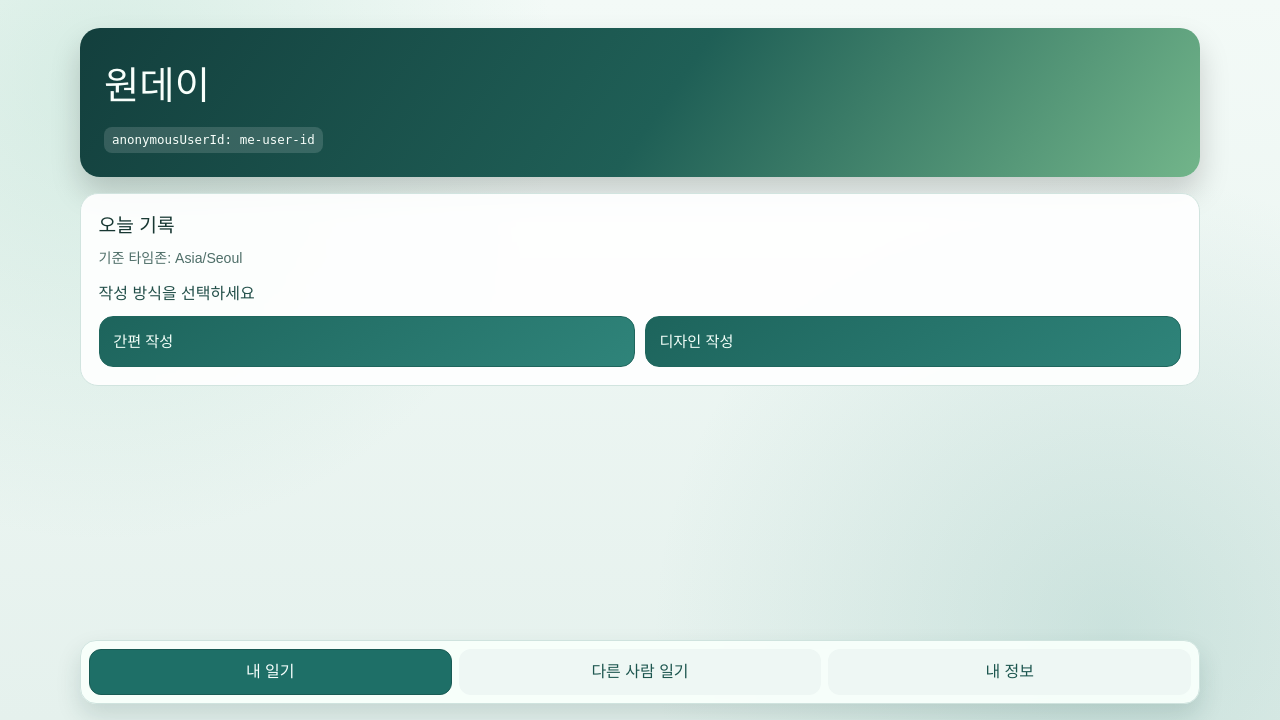
App integration › blocks deleting an entry authored by another user
The width and height of the screenshot is (1280, 720).
Click the button "내 정보": (1010, 672) top-left (828, 649), bottom-right (1191, 695)
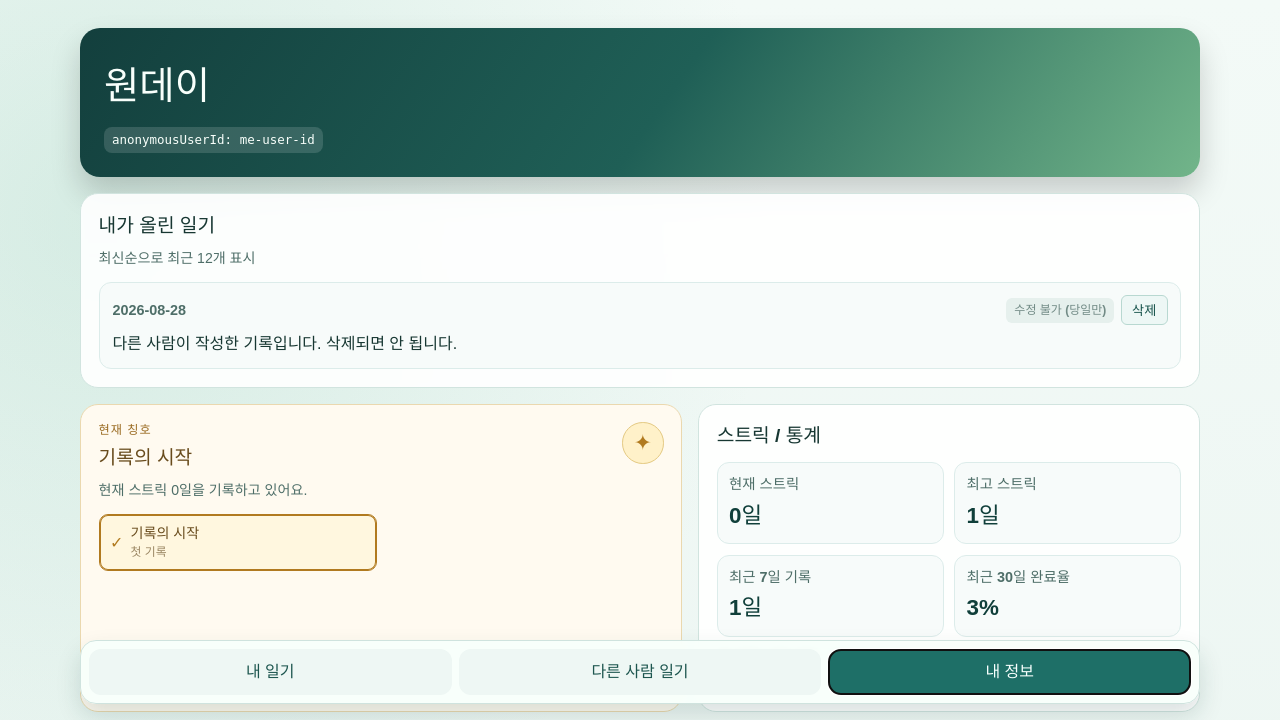
Click the button "삭제": (1144, 310) top-left (1121, 295), bottom-right (1168, 325)
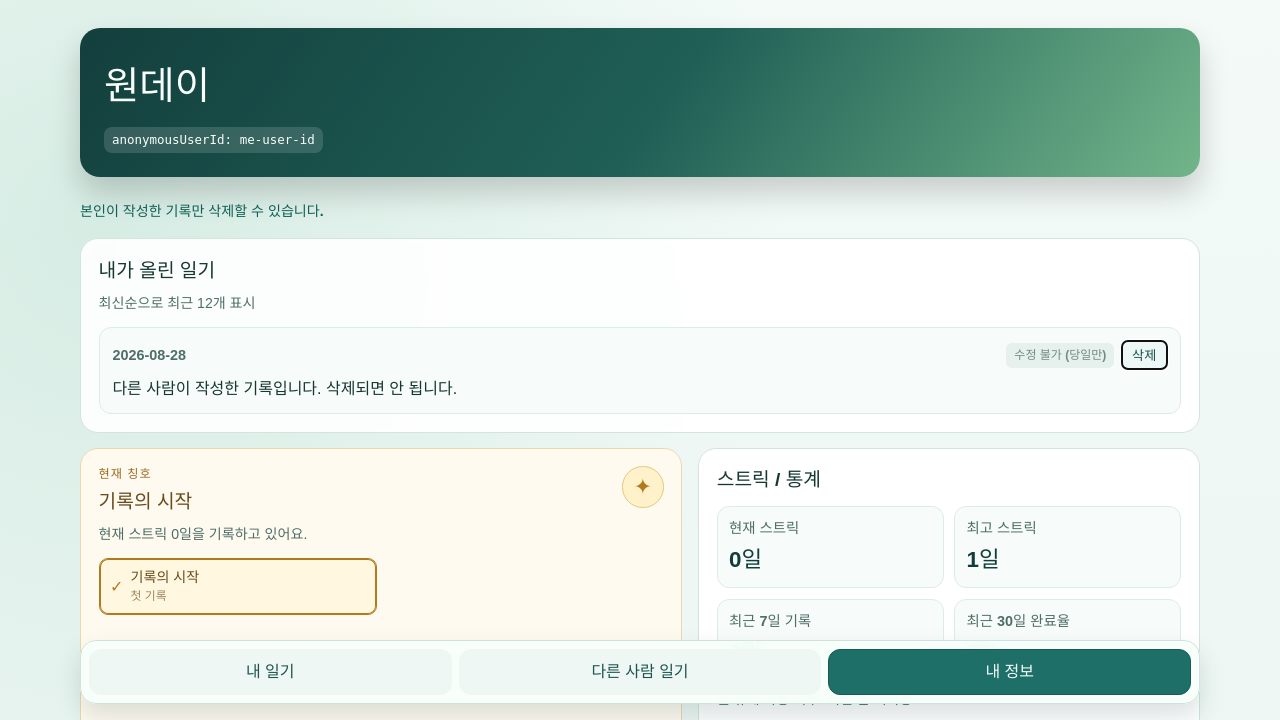
Now the text "다른 사람이 작성한 기록입니다. 삭제되면 안 됩니다." is shown, box top-left (112, 380), bottom-right (457, 396)
Now the text "본인이 작성한 기록만 삭제할 수 있습니다." is shown, box top-left (80, 203), bottom-right (324, 219)
